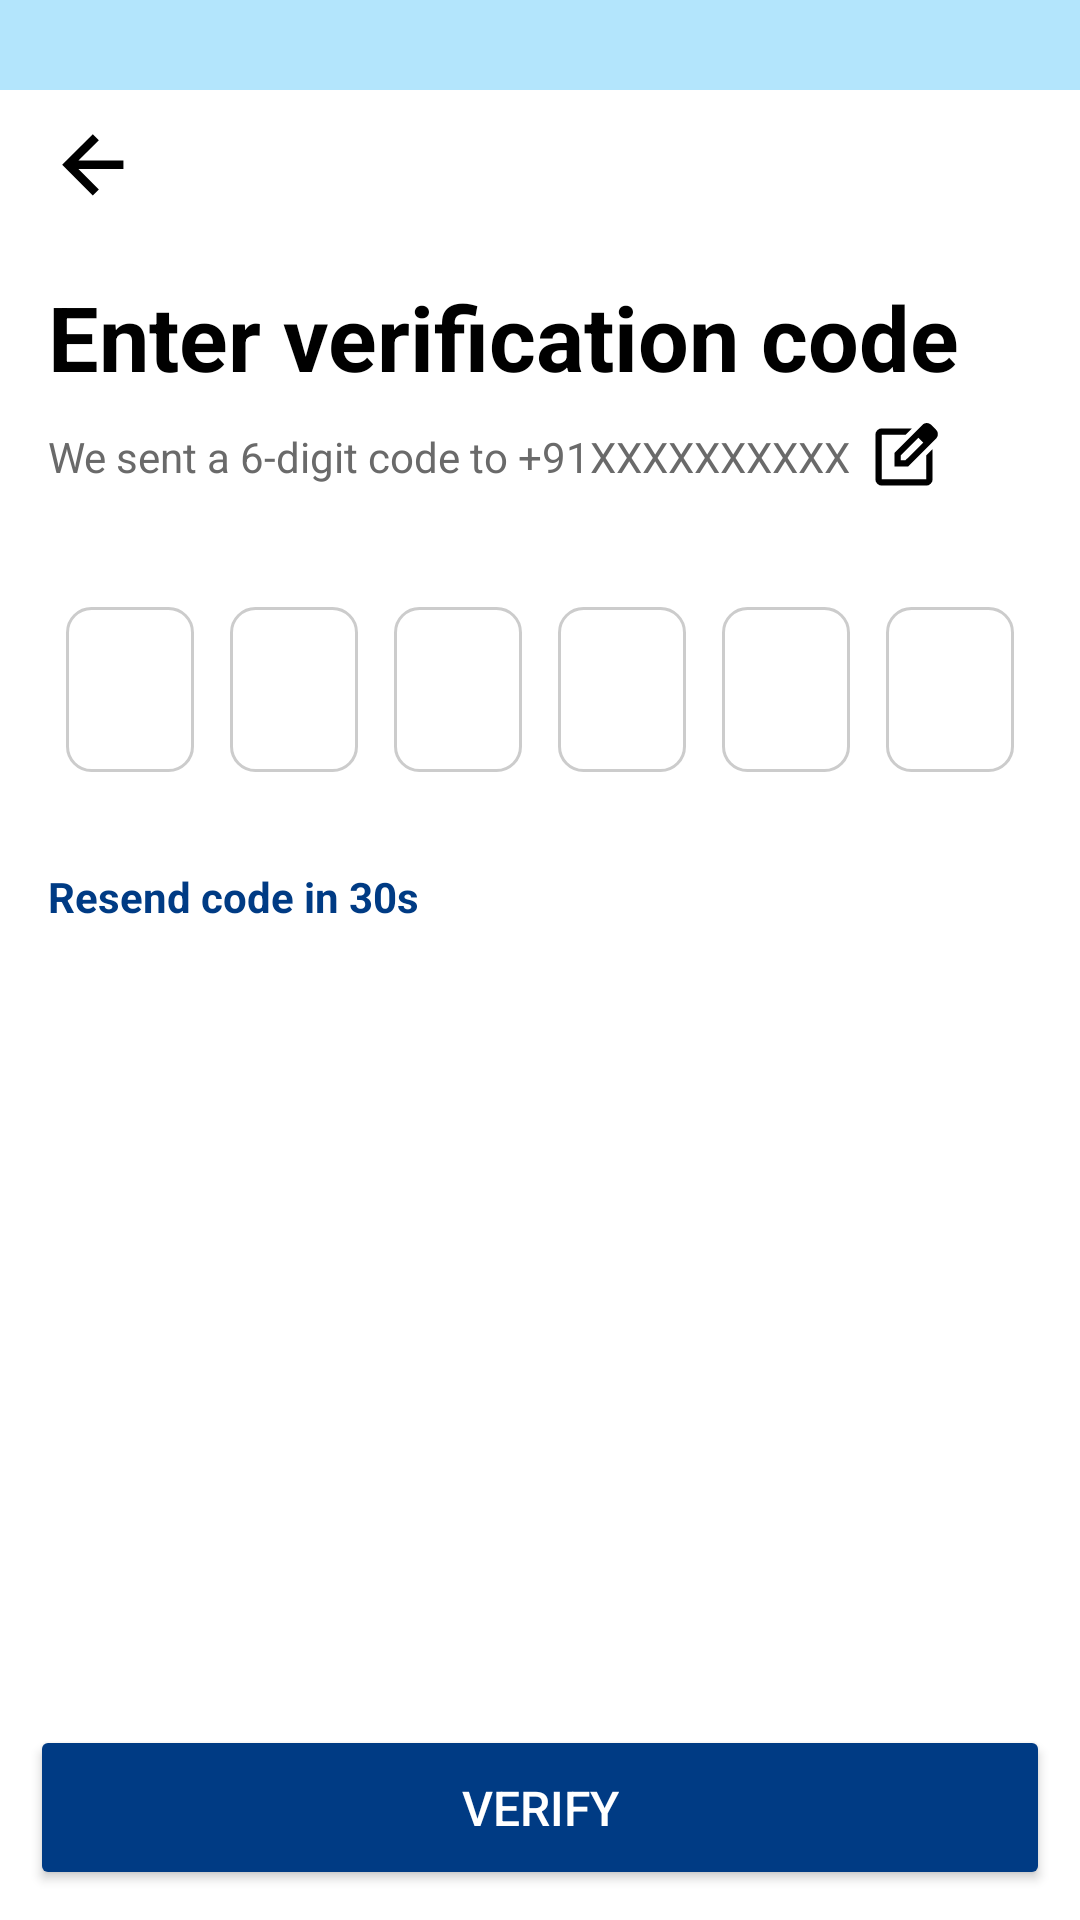

Icons on this 1080x1920 Android screen, each with the point to tap as point (x, y):
Back: point (93, 165)
Edit Number: point (906, 454)
